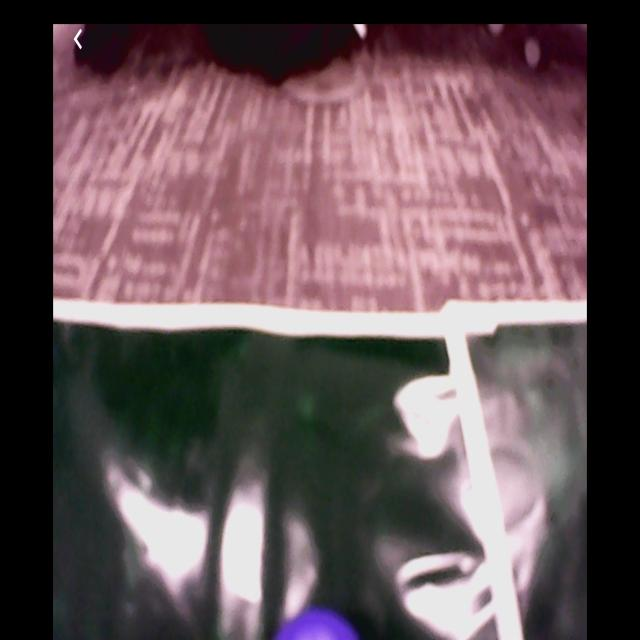ball: (269, 607, 365, 640)
